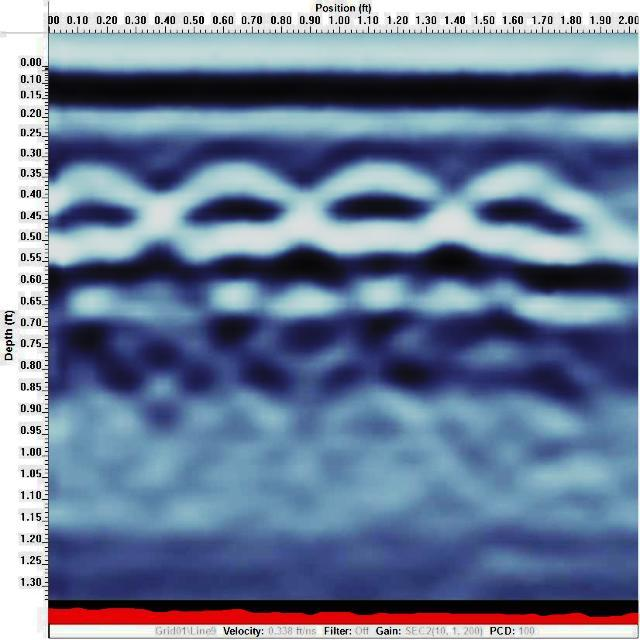hyperbola: (444, 134, 604, 284), (288, 127, 440, 280), (163, 140, 292, 276), (46, 150, 164, 290)
